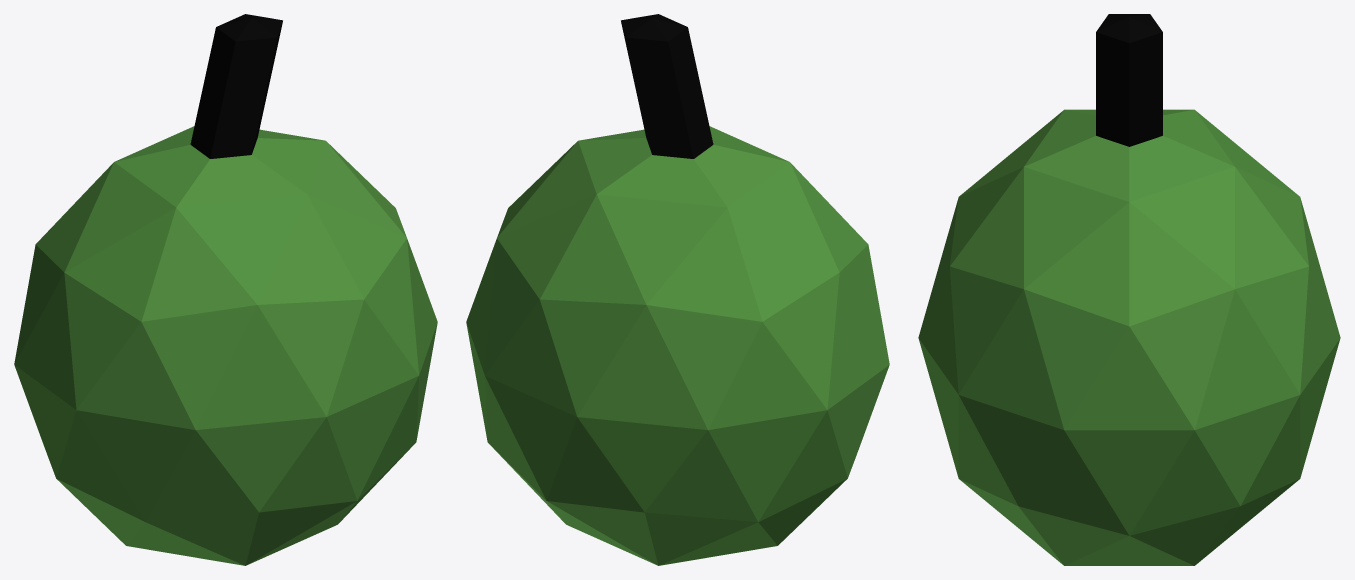
The model's file is Grenade.glb.
The picture shows the model from 3 angles, left to right: view 1: azimuth 30°, elevation 25°; view 2: azimuth 150°, elevation 25°; view 3: azimuth 270°, elevation 25°; orthographic projection. The views are drawn at different scales.
Parts seen in each view (by area): view 1: Icosphere; view 2: Icosphere; view 3: Icosphere.
Part boxes in pixels (bbox=[...]): Icosphere: bbox=[14, 14, 437, 565]; Icosphere: bbox=[466, 14, 889, 565]; Icosphere: bbox=[918, 14, 1340, 565].
Bounding box in the file's own units: 1.38 × 1.92 × 1.33.
